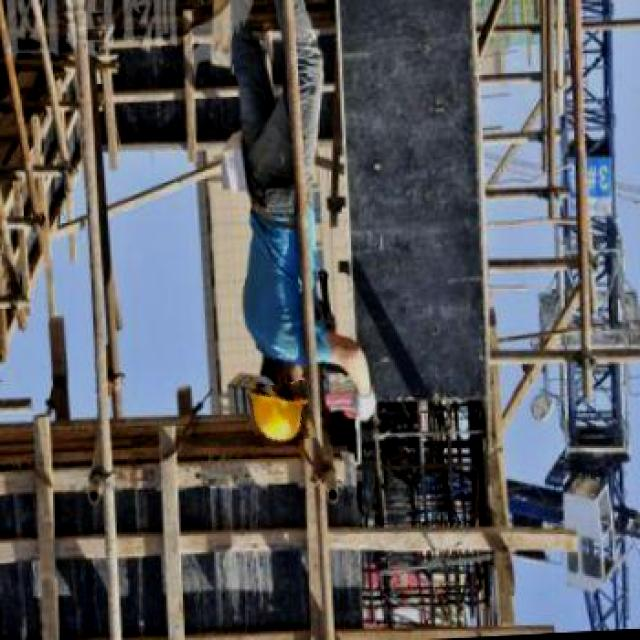helmet: (248, 382, 315, 445)
